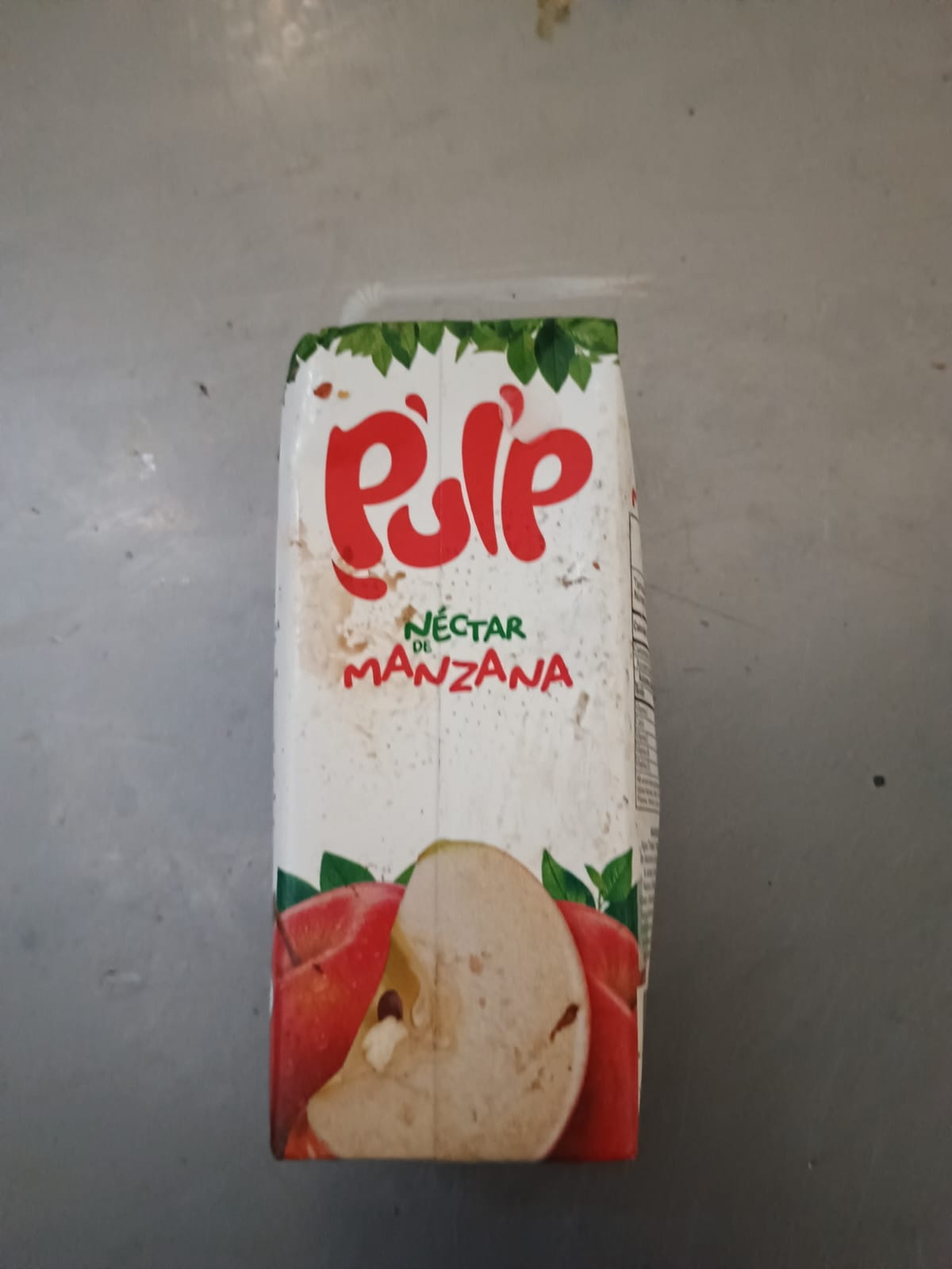Carton: (278, 329, 659, 1161)
